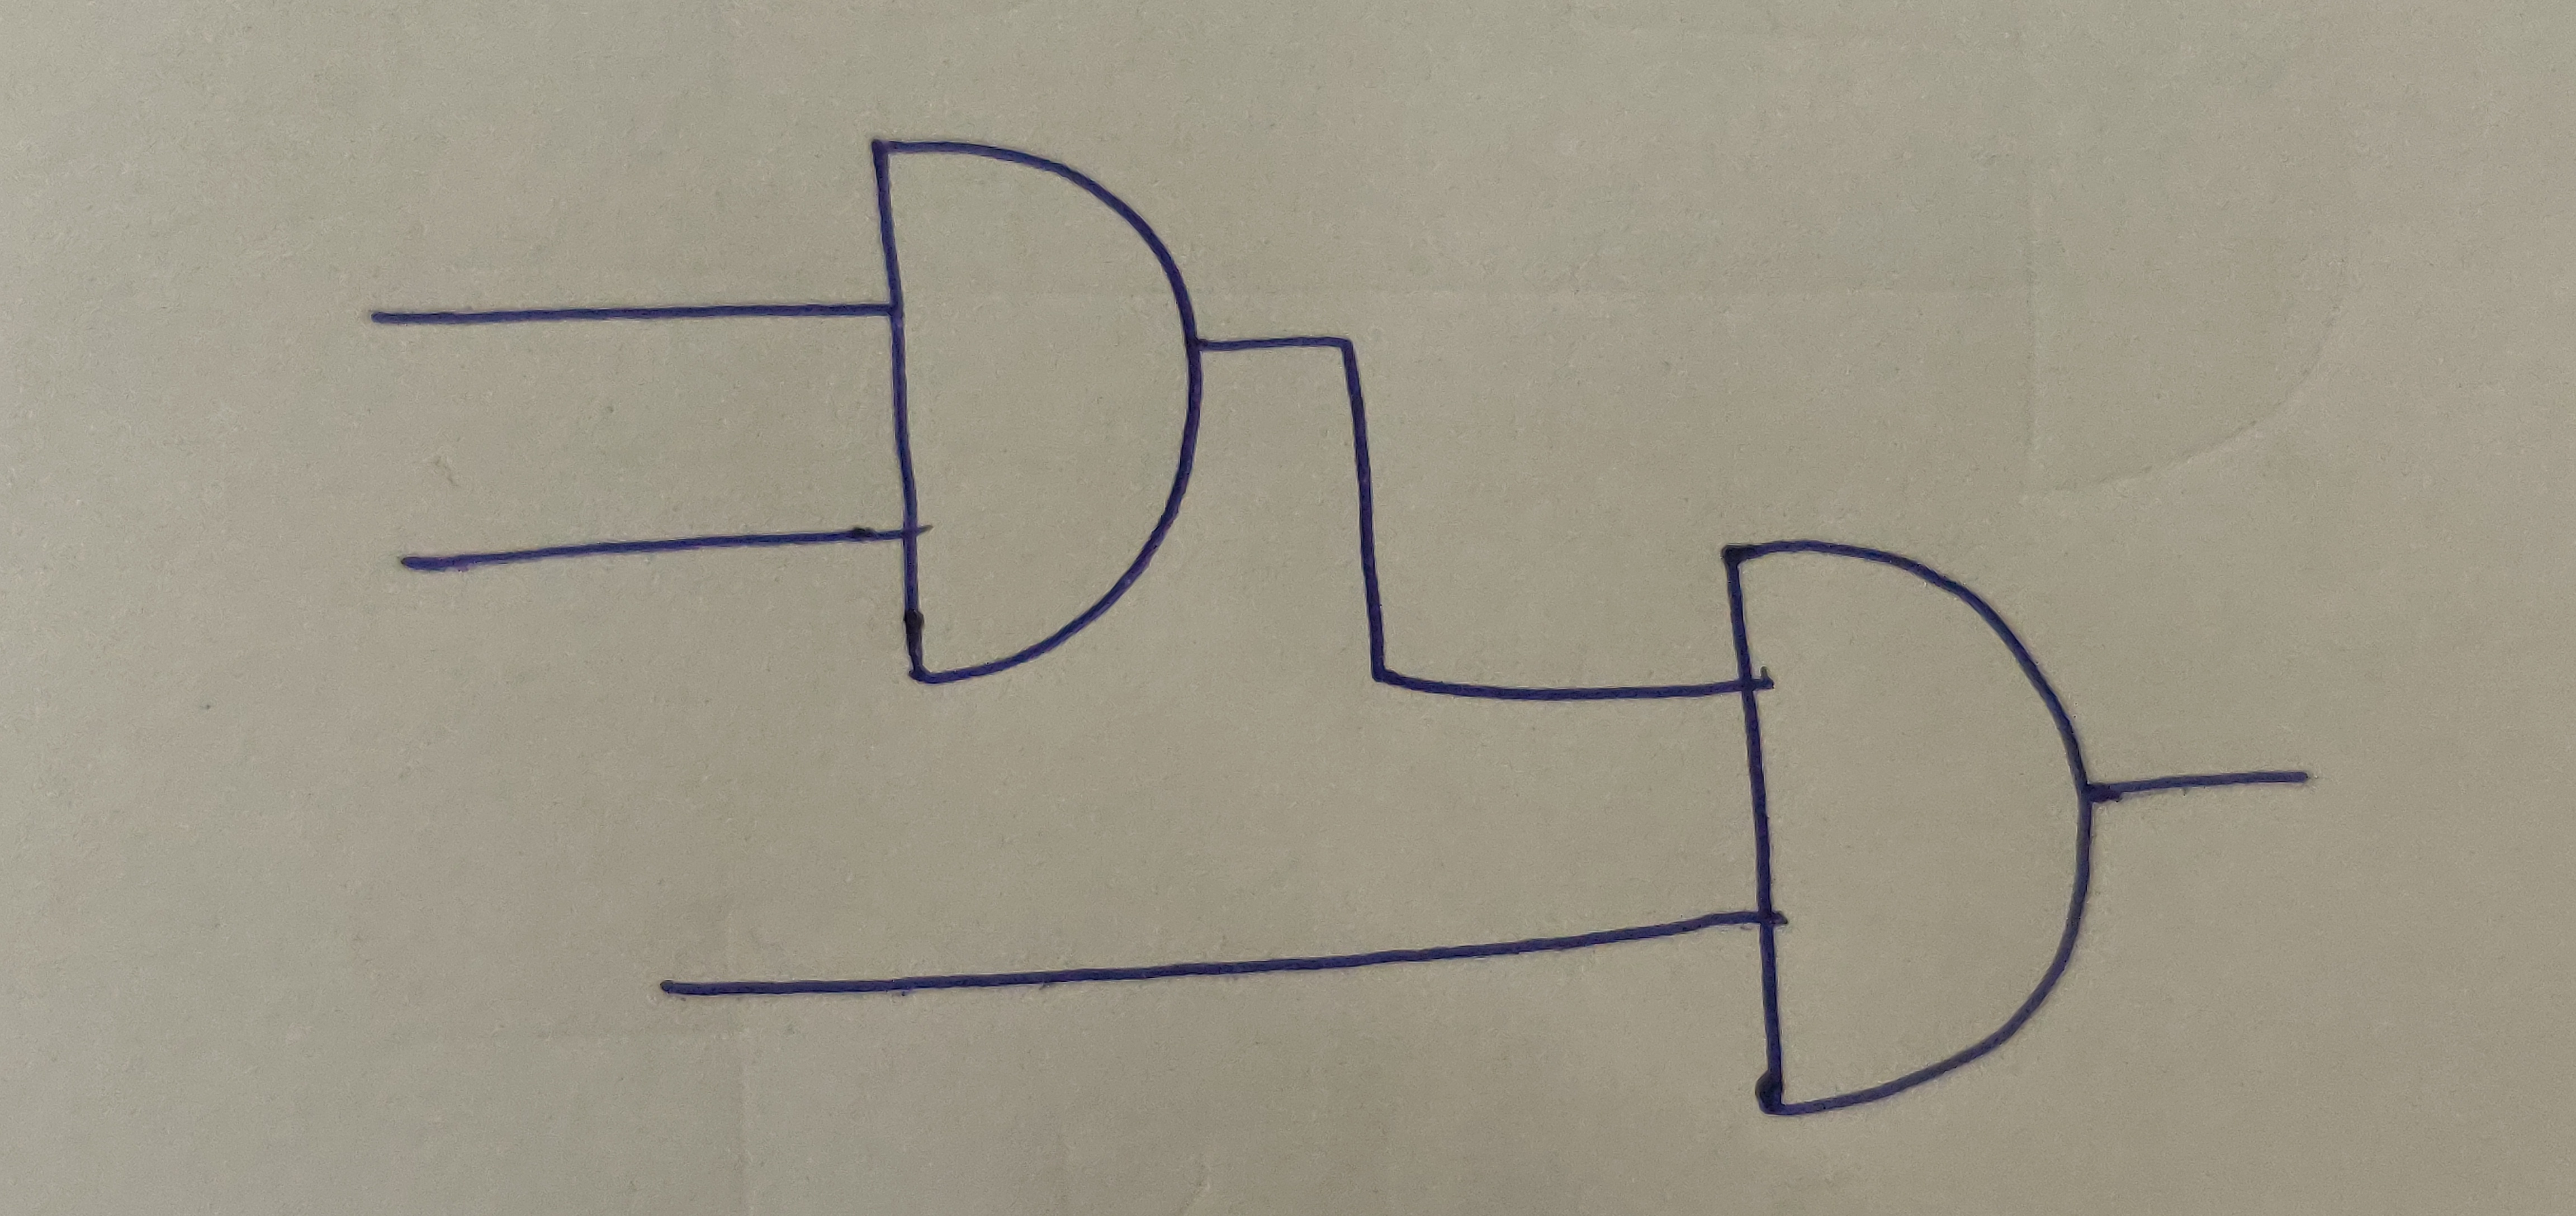and: (1727, 541, 2096, 1122), (869, 135, 1203, 684)
